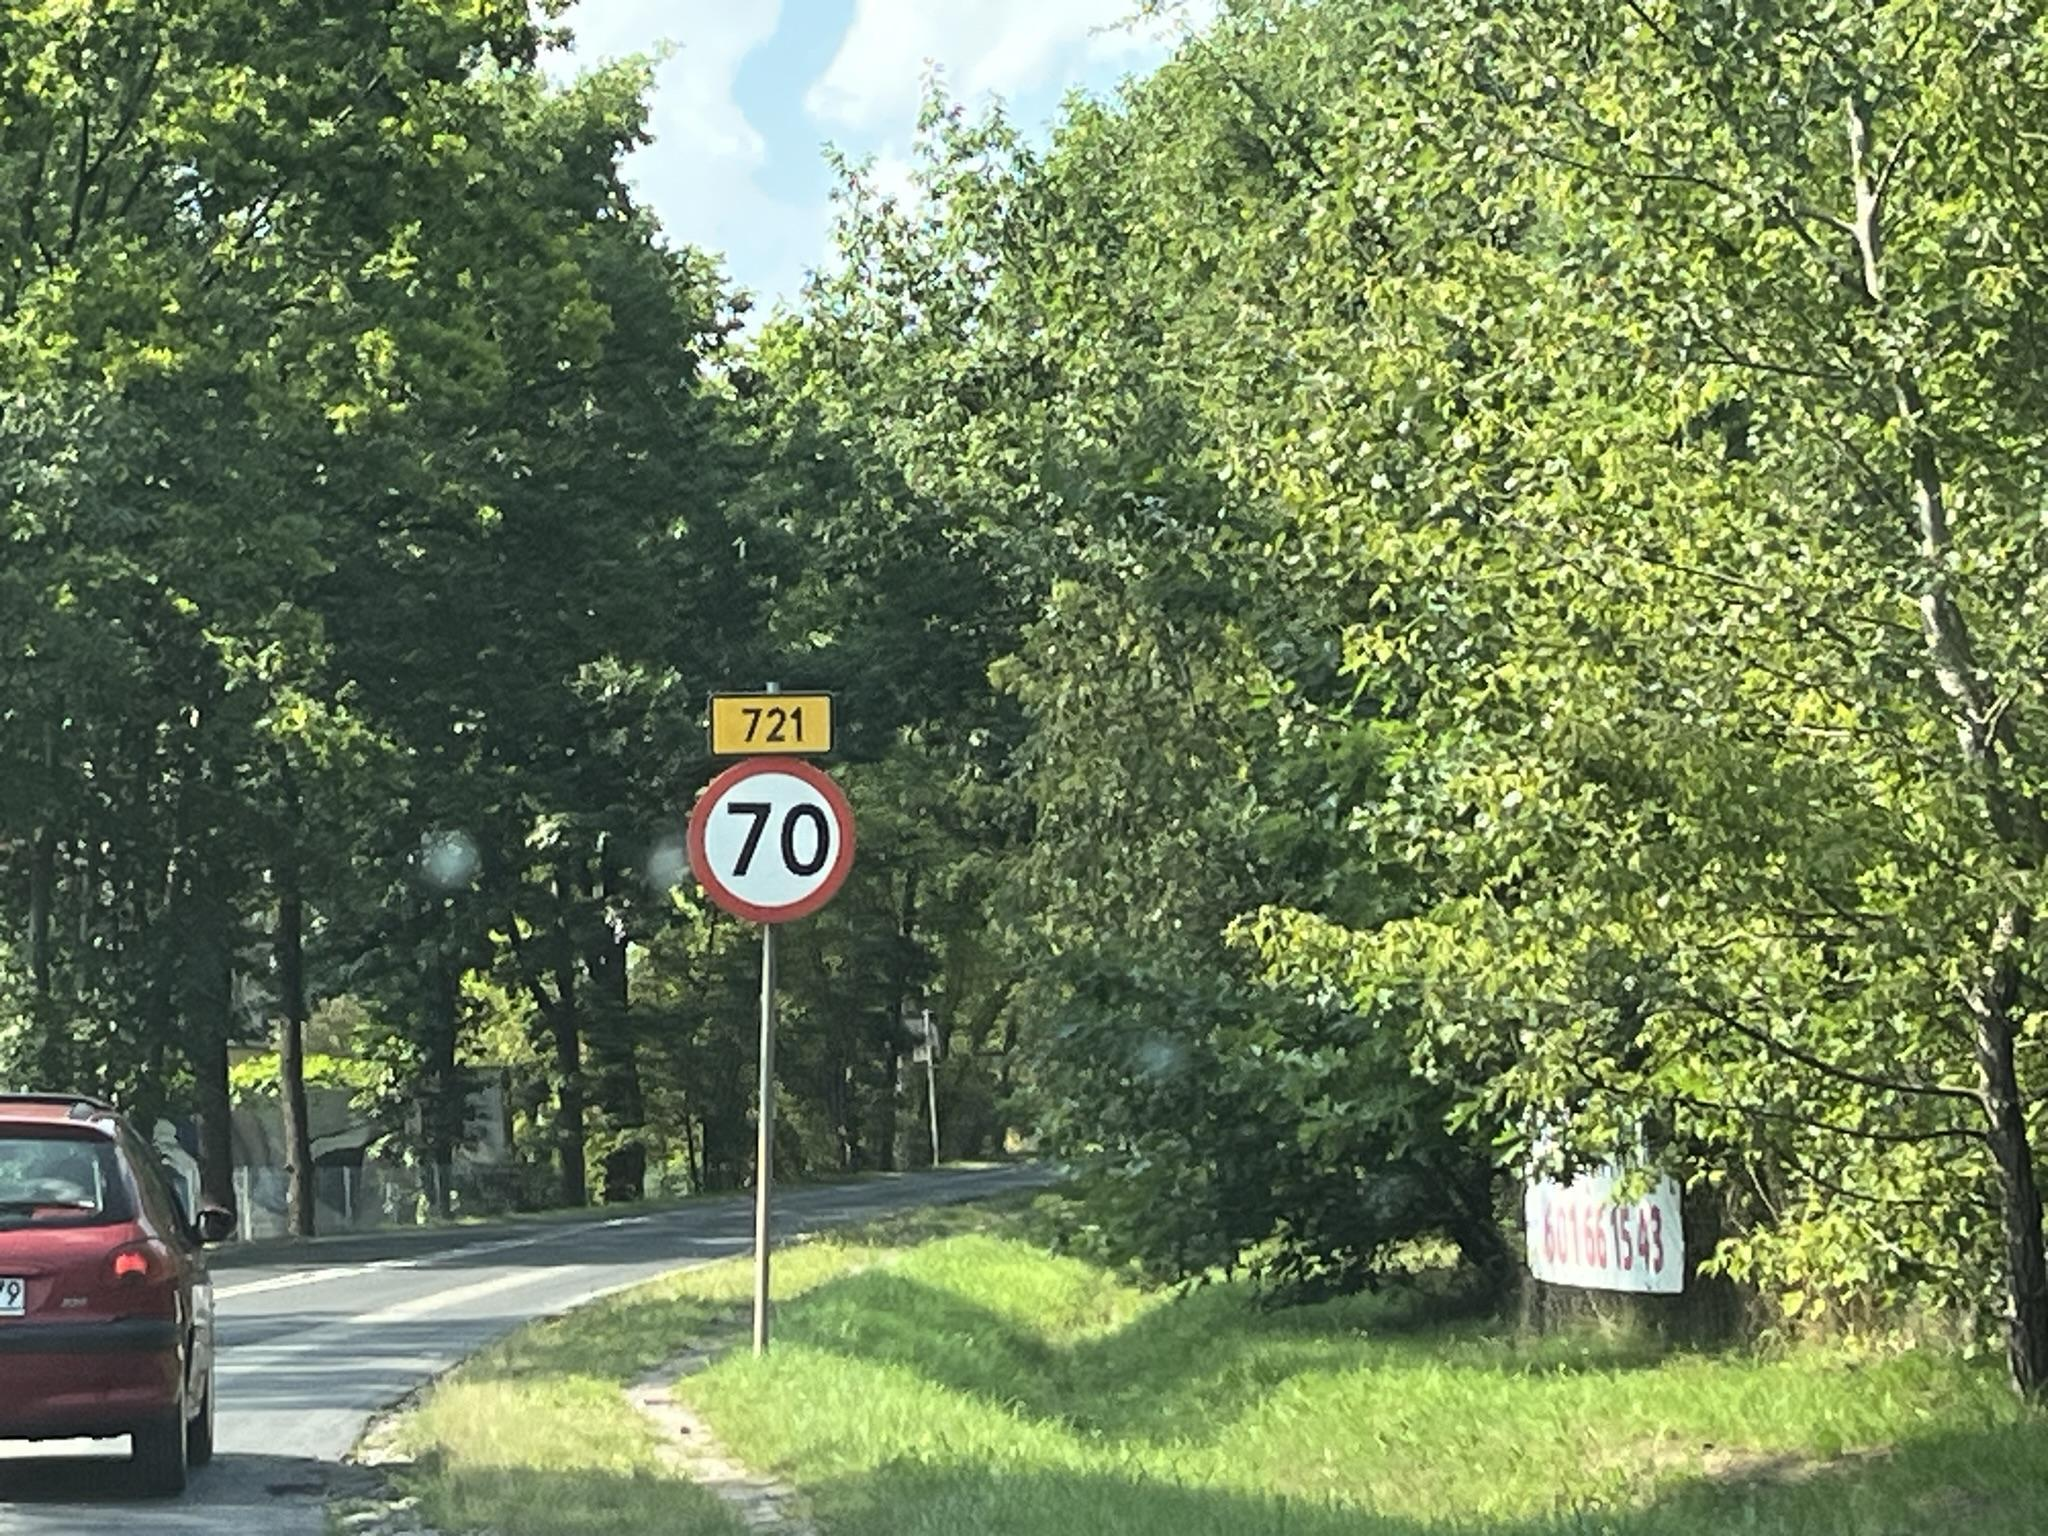other: (710, 692, 834, 753)
prohibitory: (685, 753, 860, 926)
